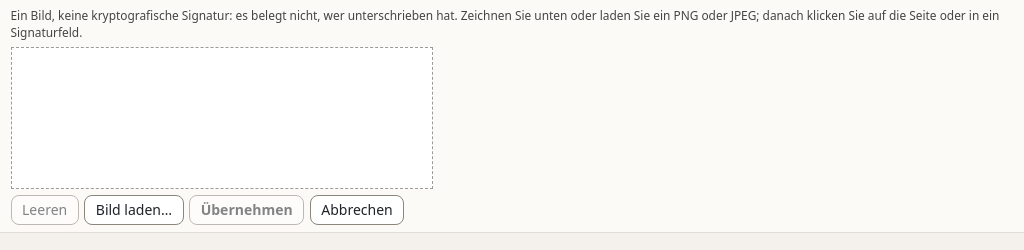
Test: Signaturfeld › leert eine Zeichnung und sperrt Uebernehmen wieder
The width and height of the screenshot is (1024, 250).
Press the mouse on the drawing with test id "signatur-zeichenflaeche" at (222, 118), box [10,47,432,189]
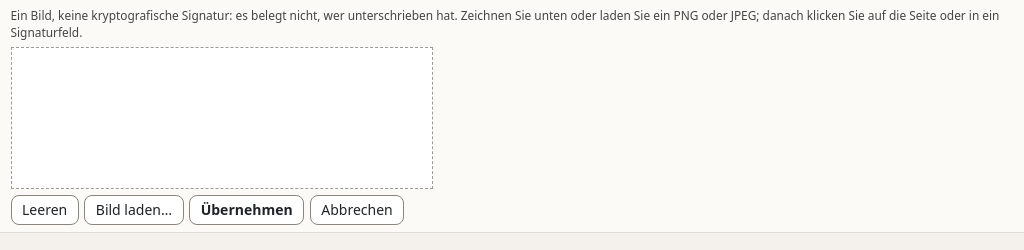
Click the button with test id "signatur-leeren". click: (45, 210)
box: [10,195,79,225]
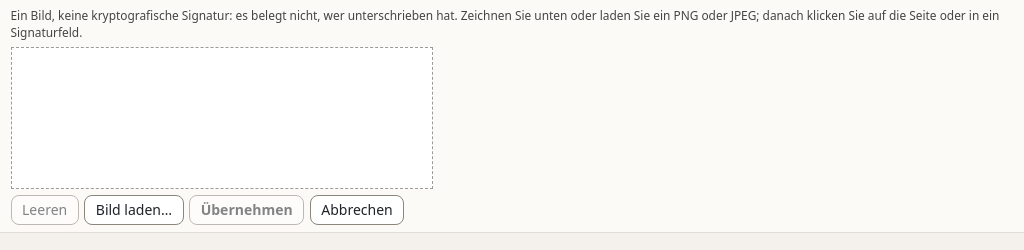
expect the button with test id "signatur-uebernehmen" is disabled: met, box [189,195,304,225]
